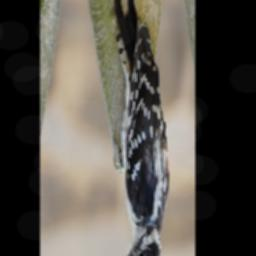Woodpecker: (114, 0, 172, 256)
